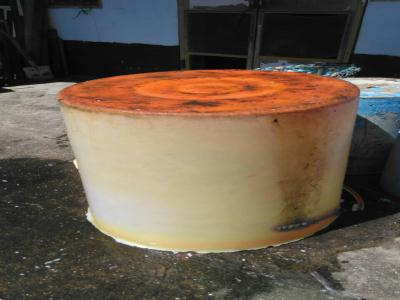bucket: (54, 66, 365, 257)
